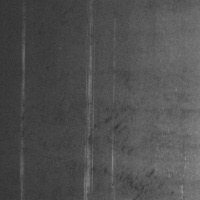scratches: (83, 13, 97, 199), (18, 6, 28, 199)
